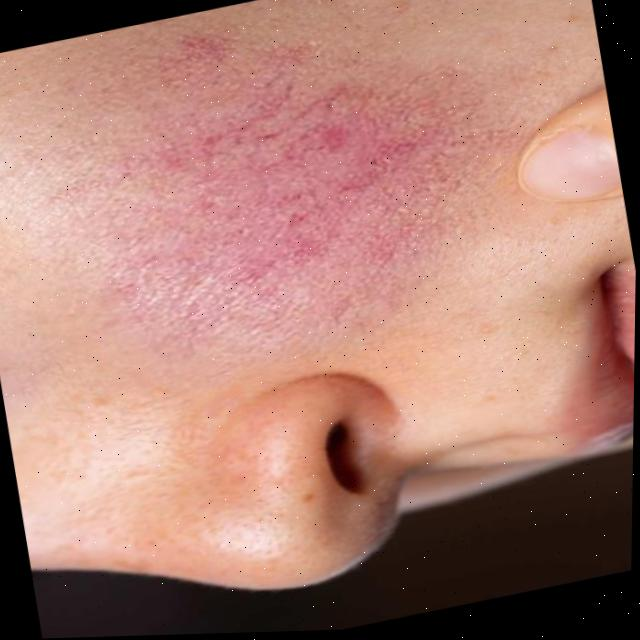Rosacea: (119, 0, 457, 358)
